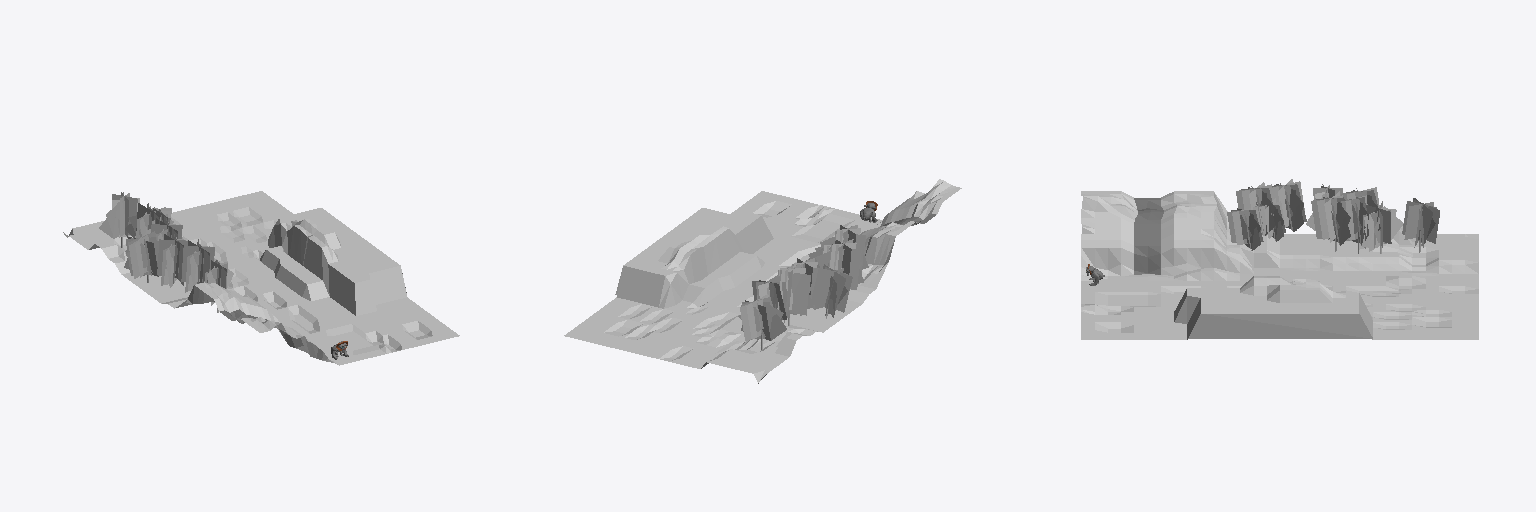
Rendered from Landschaft.obj.
3 views of the same model, side by side, from view 1: azimuth 30°, elevation 25°; view 2: azimuth 150°, elevation 25°; view 3: azimuth 270°, elevation 25° (orthographic).
Visible parts, largest first — view 1: pPlane1; view 2: pPlane1, BaumMitAsten18_pPlane7; view 3: pPlane1, pPlane2.
Boxes of the visible parts, box(x1,y1,x2,y2) form: pPlane1: box(63, 191, 459, 365); pPlane1: box(564, 179, 961, 383); BaumMitAsten18_pPlane7: box(780, 270, 809, 315); pPlane1: box(1081, 191, 1478, 339); pPlane2: box(1188, 219, 1423, 338).
Bounding box in the file's own units: 17.99 × 6.08 × 29.15.